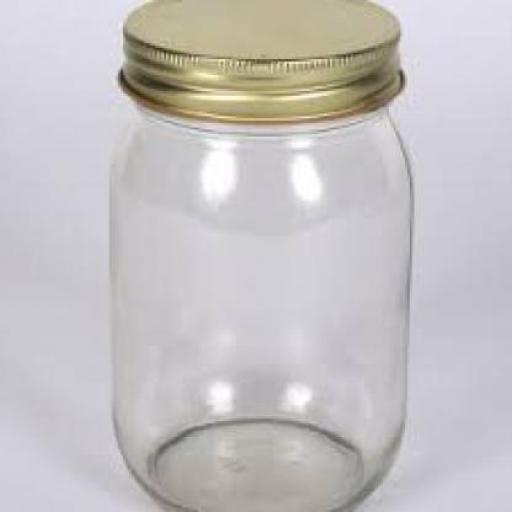glass: (109, 91, 412, 510)
metal: (116, 0, 403, 121)
